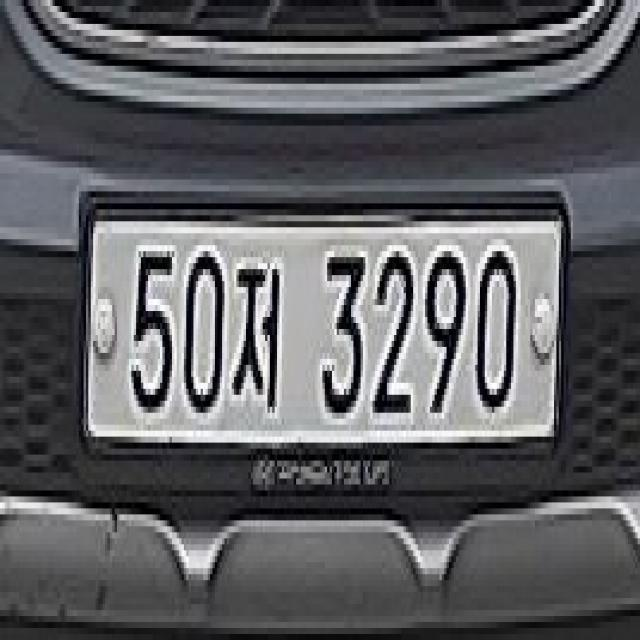0: (474, 221, 522, 425), (186, 240, 227, 422)
2: (371, 236, 418, 424)
3: (319, 238, 370, 420)
5: (128, 238, 179, 428)
9: (422, 232, 470, 426)
jeo: (232, 250, 286, 420)
license_plate: (60, 164, 575, 460)
